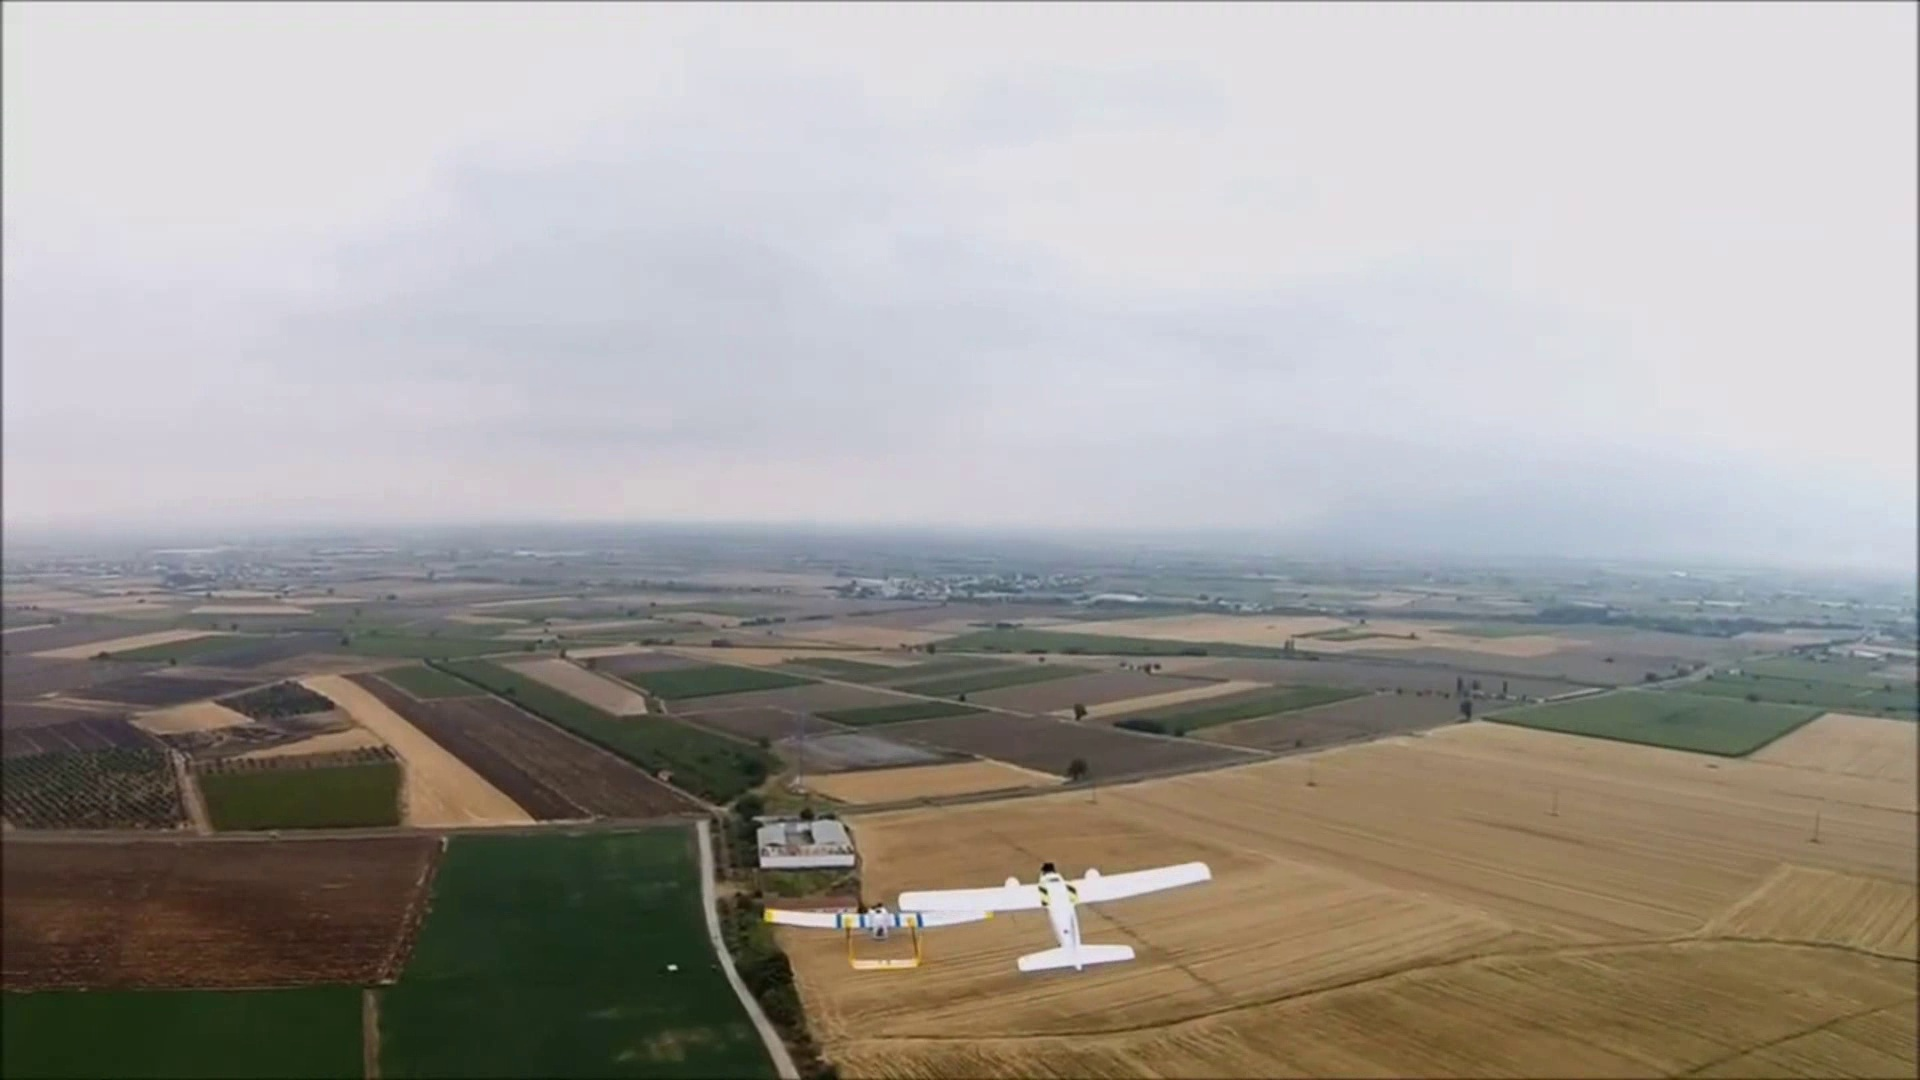airplane: (891, 856, 1211, 975)
